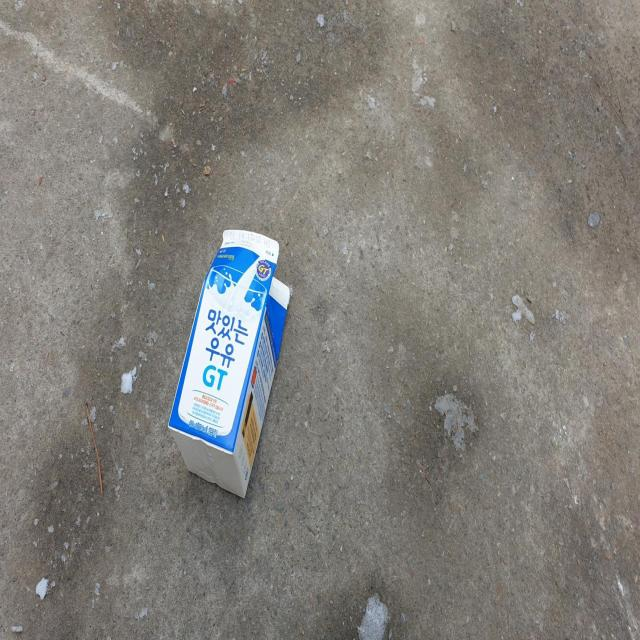paperpack: (168, 230, 290, 496)
